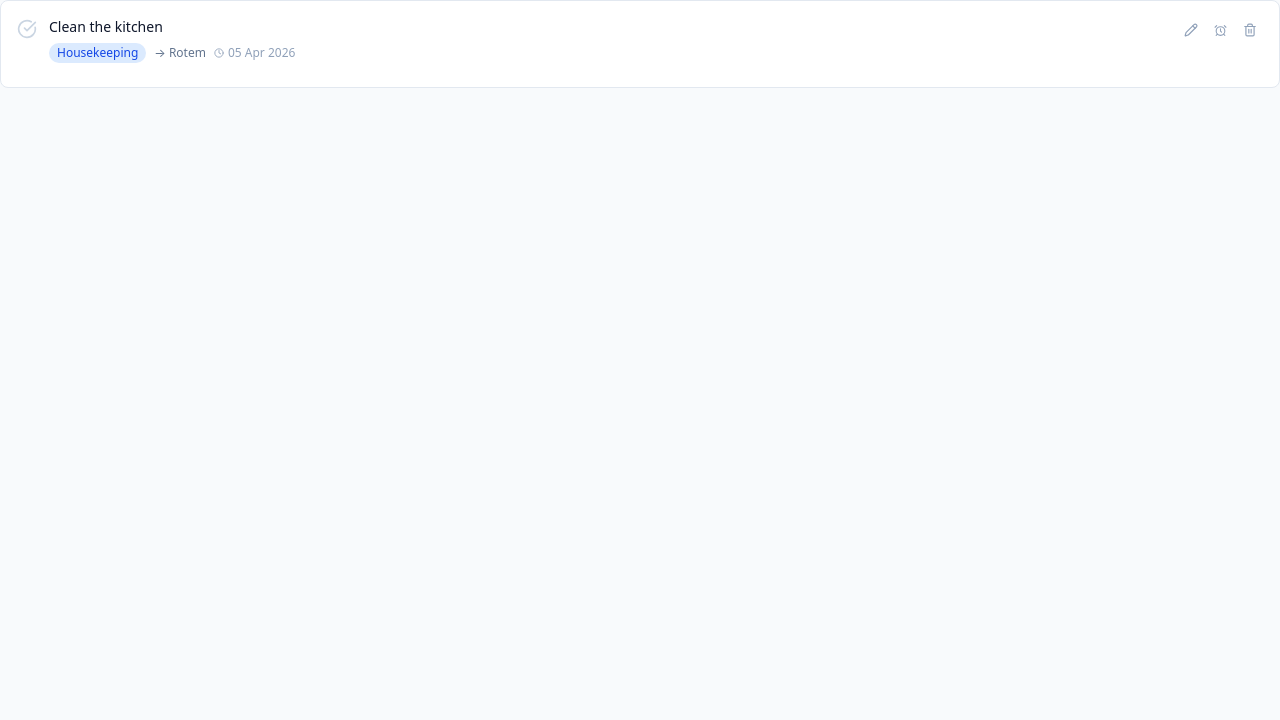
Test: TaskCard › snooze dropdown closes when clicking outside
Step 1. Click the button named "Snooze task" → (1220, 30), box [1208,18,1233,42]
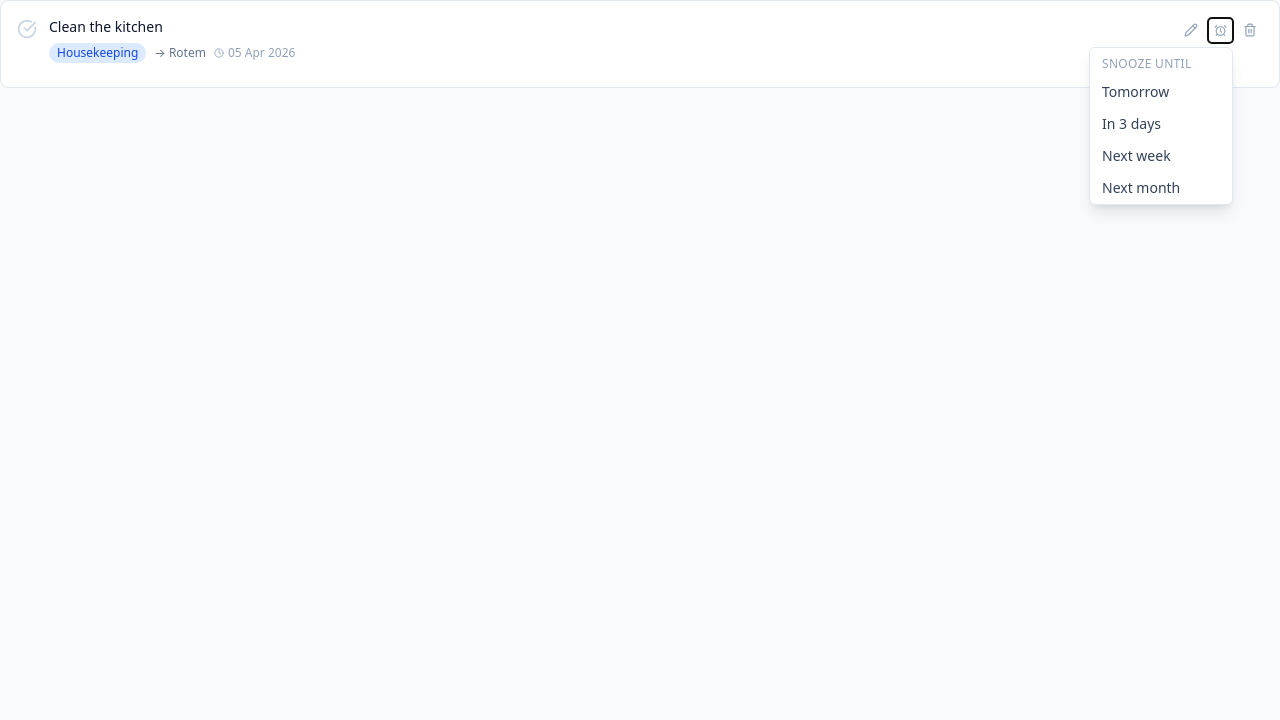
Expected: the button "Tomorrow" is shown, [1090,76,1232,108]
Step 2. Click the element that starts with "Clean the kitchen" → (640, 360), box [0,0,1279,719]
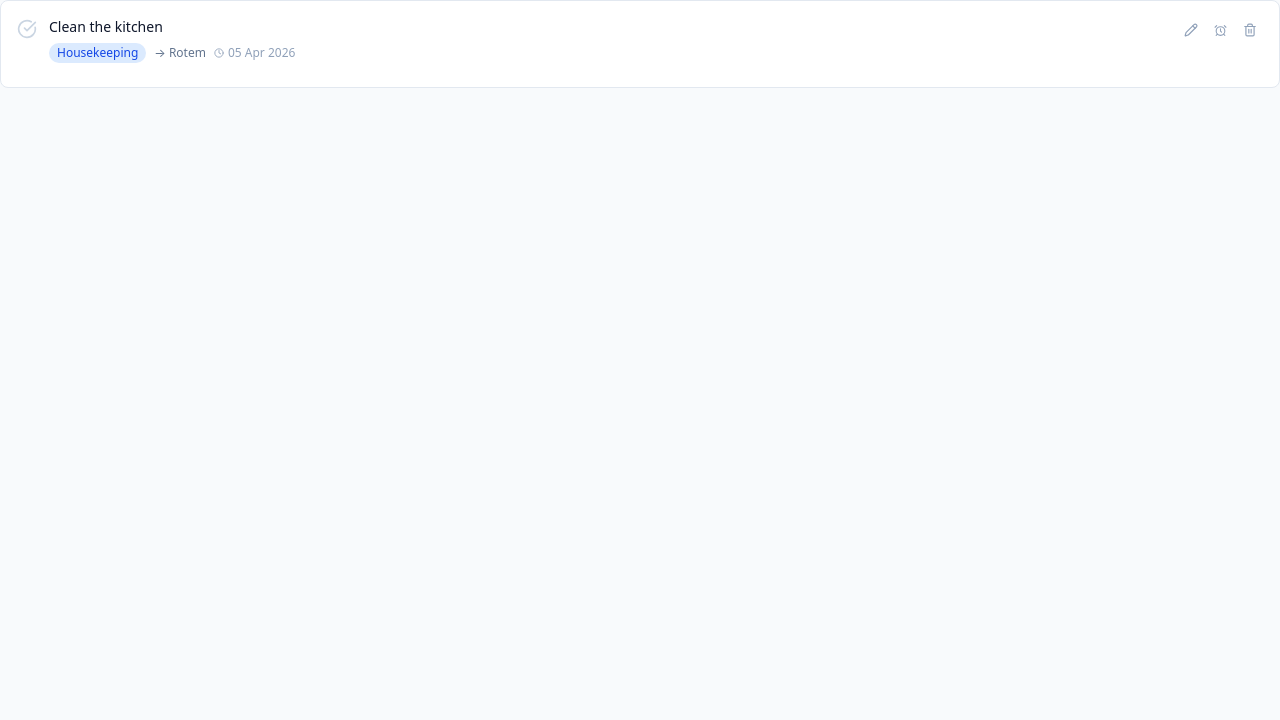
Expected: the button "Tomorrow" is gone
